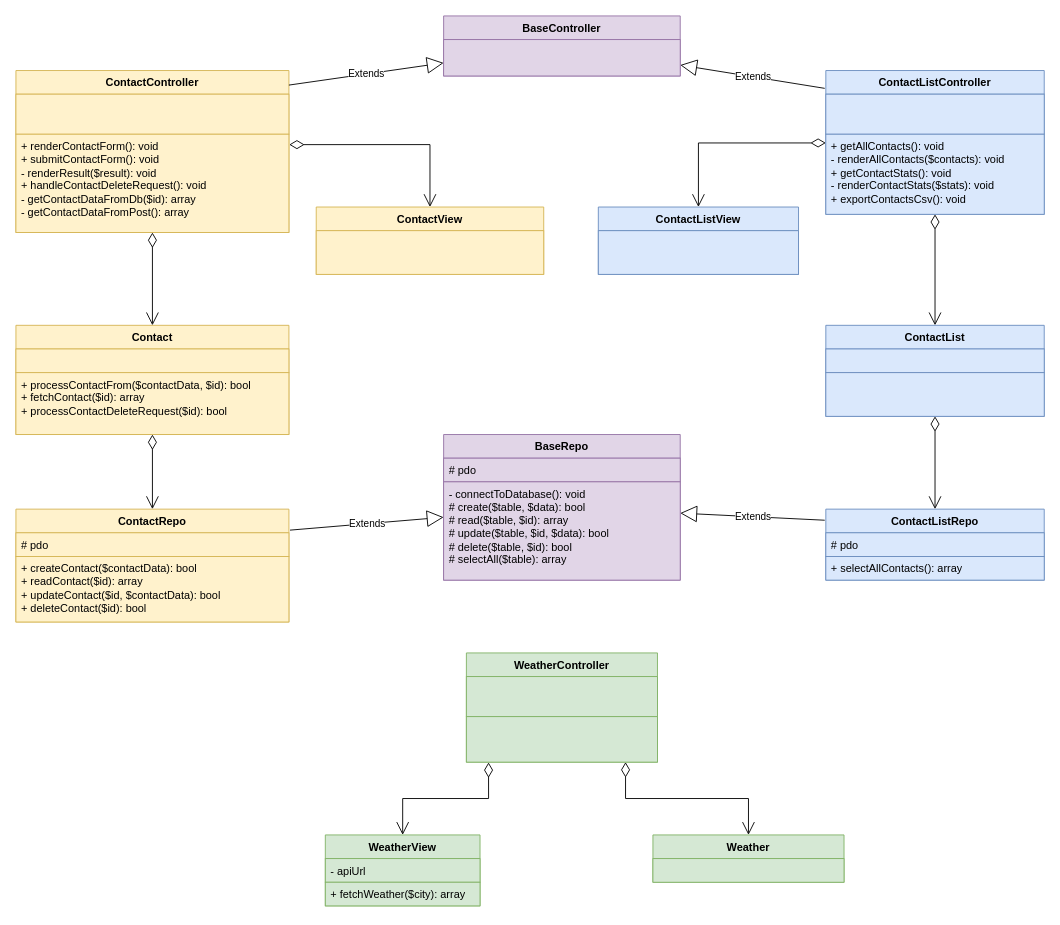
Some shapes in this 1060 by 925 pixel diagram are drawn without their labels. The centre of each missing label's shape, as x and y in pixels:
"+ displayContactForm($contactData): void + displayResult($result): void" belongs at point 429,252.
"+ displayContactList($contacts): void + displayContactStats($stats): void" belongs at point 698,252.
"+ displayWeather($data, $city): void" belongs at point 748,870.
"+ fetchAllContacts(): array + countContactGenders($contacts): array" belongs at point 934,394.
"+ getWeather(): void - renderWeather($data, $city): void" belongs at point 561,739.
"+ homePage(): void + pageNotFound(): void" belongs at point 561,57.
"- contact - contactView" belongs at point 152,113.
"- contactList - contactListView" belongs at point 934,113.
"- contactListRepo" belongs at point 934,360.
"- contactRepo" belongs at point 152,360.
"- weather - weatherView" belongs at point 561,696.
